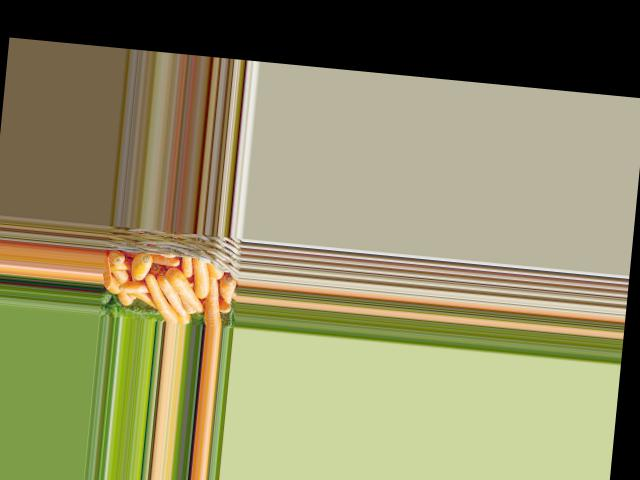carrot: (109, 248, 124, 266)
